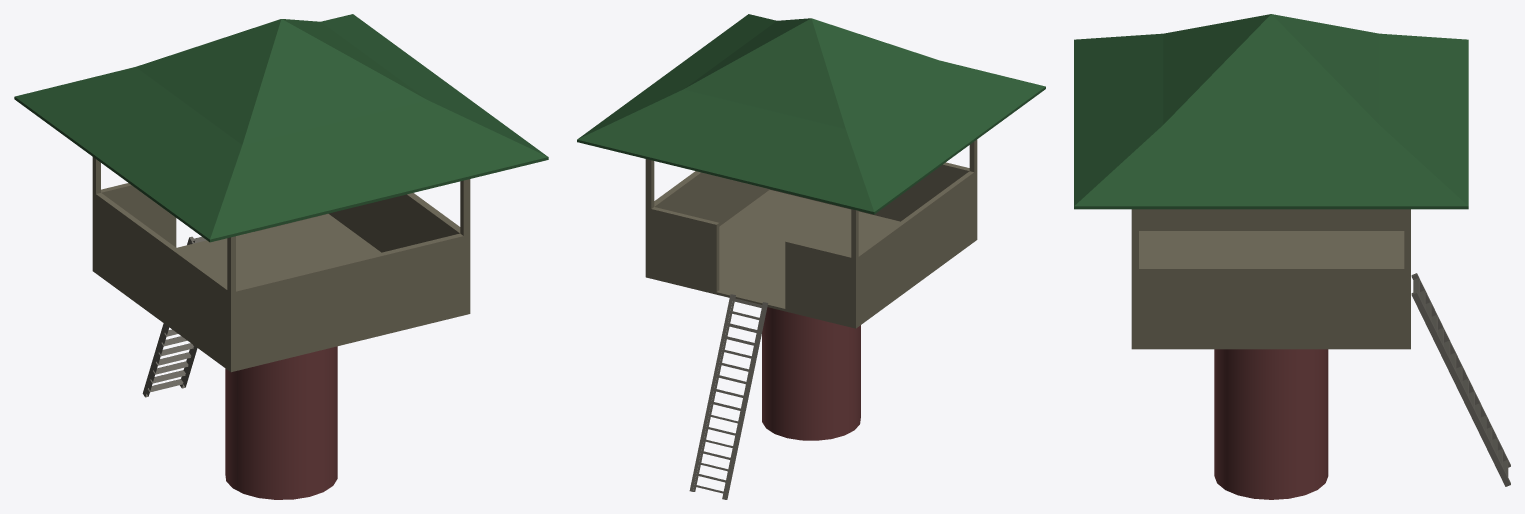
File: archer_tower.fbx
The picture shows the model from 3 angles, left to right: view 1: azimuth 30°, elevation 25°; view 2: azimuth 150°, elevation 25°; view 3: azimuth 270°, elevation 25°; orthographic projection. The views are drawn at different scales.
Parts seen in each view (by area): view 1: pPyramid3, pCube5, pCylinder1, pCube3; view 2: pPyramid3, pCube5, pCylinder1, pCube3; view 3: pPyramid3, pCube5, pCylinder1, pCube3.
Boxes of the visible parts, x1,y1,x2,y2 form: pPyramid3: (14,14,548,242); pCube5: (92,157,470,372); pCylinder1: (225,346,337,499); pCube3: (142,236,206,397); pPyramid3: (577,14,1045,214); pCube5: (645,139,977,328); pCylinder1: (762,307,860,440); pCube3: (689,294,768,499); pPyramid3: (1074,14,1468,209); pCube5: (1131,209,1410,349); pCylinder1: (1214,349,1328,499); pCube3: (1411,273,1510,486).
Size of the model in its own units: 8.56 by 11.09 by 9.48.
